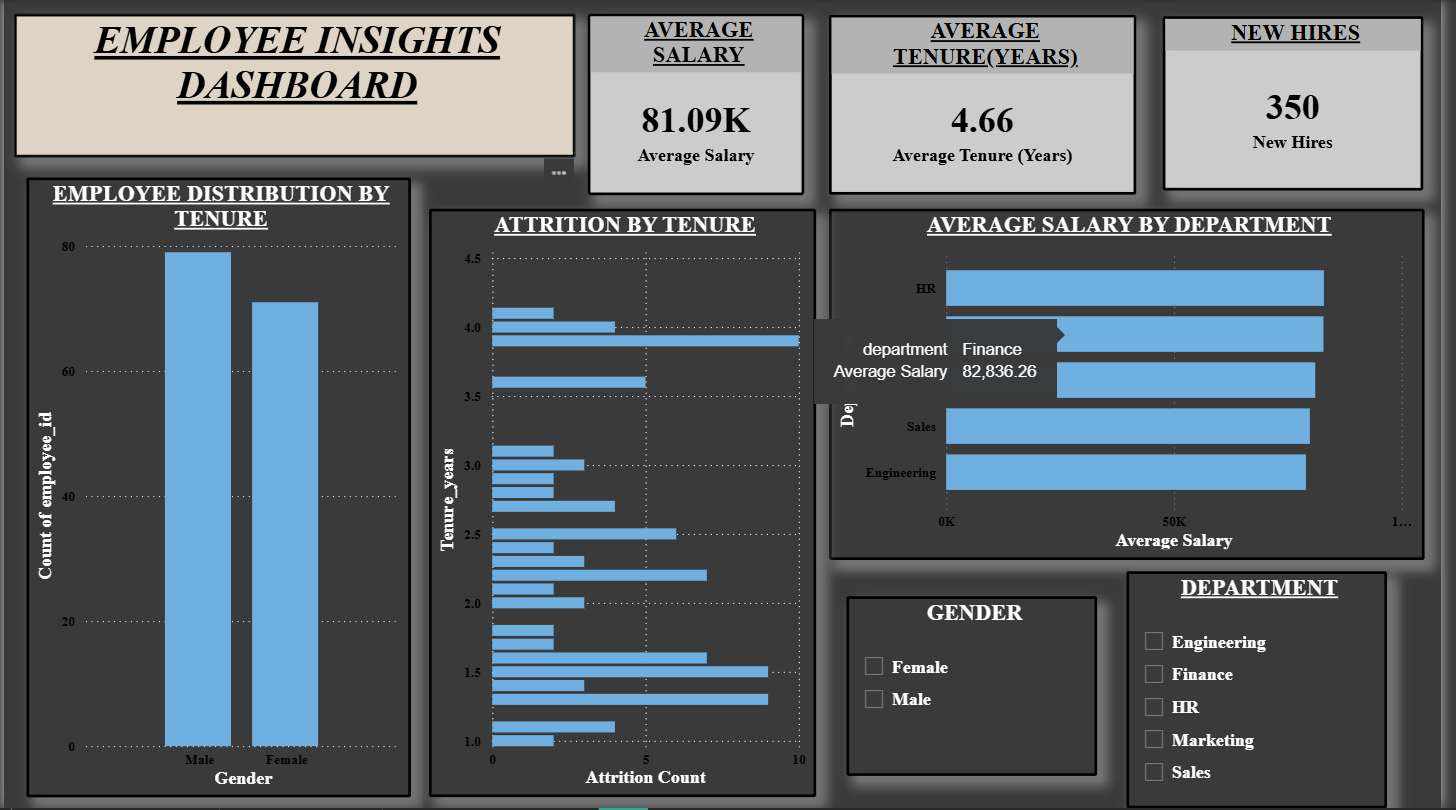

The page's visual inventory and layout, read from the dashboard file:
{"tool":"powerbi","page":{"name":"Salary & Tenure Analysis","canvas":[1280,720],"ordinal":2},"visuals":[{"type":"textbox","title":"EMPLOYEE INSIGHTS DASHBOARD","box":[8.6,12.2,499.6,128.3],"z":0},{"type":"card","title":"AVERAGE SALARY","fields":{"Values":["Employee_dataset.Average Salary"]},"box":[520.4,12.2,193,161.3],"z":1000},{"type":"card","title":"AVERAGE TENURE(YEARS)","fields":{"Values":["Employee_dataset.Average Tenure (Years)"]},"box":[734.2,13.4,273.6,160],"z":2000},{"type":"card","title":"NEW HIRES","fields":{"Values":["Employee_dataset.New Hires"]},"box":[1032.3,14.7,232.1,155.1],"z":3000},{"type":"clusteredBarChart","title":"AVERAGE SALARY BY DEPARTMENT","fields":{"Category":["dDepartment.department"],"Y":["Employee_dataset.Average Salary"]},"box":[734.2,185.7,530.2,312.7],"z":4000},{"type":"clusteredColumnChart","title":"EMPLOYEE DISTRIBUTION BY TENURE","fields":{"Category":["dEmployee.gender"],"Y":["CountNonNull(dEmployee.employee_id)"]},"box":[19.5,157.6,342.1,552.2],"z":5000},{"type":"clusteredBarChart","title":"ATTRITION BY TENURE","fields":{"Category":["Employee_dataset.tenure_years"],"Y":["Employee_dataset.Attrition Count"]},"box":[378.7,185.7,344.5,524.1],"z":6000},{"type":"slicer","title":"GENDER","fields":{"Values":["dEmployee.gender"]},"box":[750.1,531.4,223.6,160],"z":7000},{"type":"slicer","title":"DEPARTMENT","fields":{"Values":["dDepartment.department"]},"box":[999.3,508.2,232.1,211.3],"z":8000}]}

Visuals, with their boxes in screenshot pixels (x1, y1, x2, y2), scaled from the page's 1280x720 canvas onto the 1456x810 screenshot:
"EMPLOYEE INSIGHTS DASHBOARD" textbox: box=[10, 14, 578, 158]
"AVERAGE SALARY" card: box=[592, 14, 811, 195]
"AVERAGE TENURE(YEARS)" card: box=[835, 15, 1146, 195]
"NEW HIRES" card: box=[1174, 17, 1438, 191]
"AVERAGE SALARY BY DEPARTMENT" clusteredBarChart: box=[835, 209, 1438, 561]
"EMPLOYEE DISTRIBUTION BY TENURE" clusteredColumnChart: box=[22, 177, 411, 799]
"ATTRITION BY TENURE" clusteredBarChart: box=[431, 209, 823, 799]
"GENDER" slicer: box=[853, 598, 1108, 778]
"DEPARTMENT" slicer: box=[1137, 572, 1401, 809]
